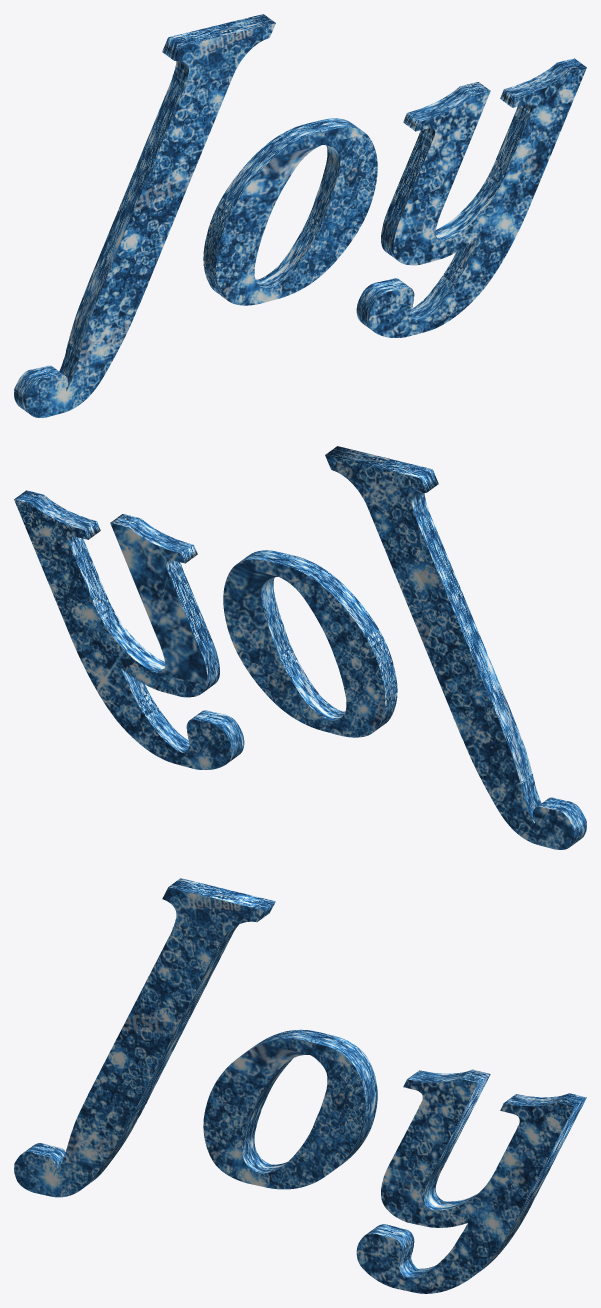
The model's file is joy.glb.
3 renders of one model, top to bottom at view 1: azimuth 30°, elevation 25°; view 2: azimuth 150°, elevation 25°; view 3: azimuth 330°, elevation 25°, orthographic.
Parts seen in each view (by area): view 1: Text.001; view 2: Text.001; view 3: Text.001.
Part boxes in pixels (bbox=[...]): Text.001: bbox=[14, 14, 586, 417]; Text.001: bbox=[14, 446, 586, 849]; Text.001: bbox=[14, 878, 586, 1293].
Size of the model in its own units: 1.34 by 0.7904 by 0.0516.
Materials: 1 (1 with a texture image).
